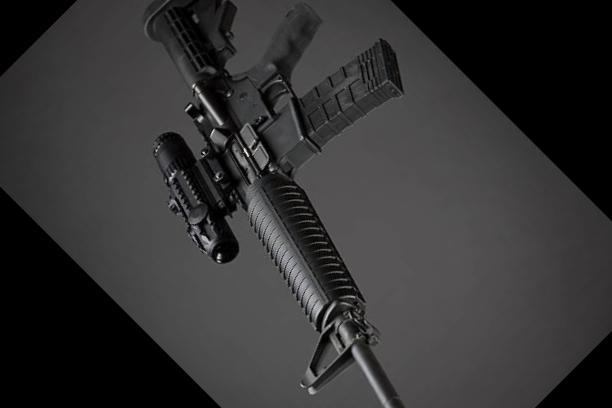larga: (142, 2, 406, 408)
